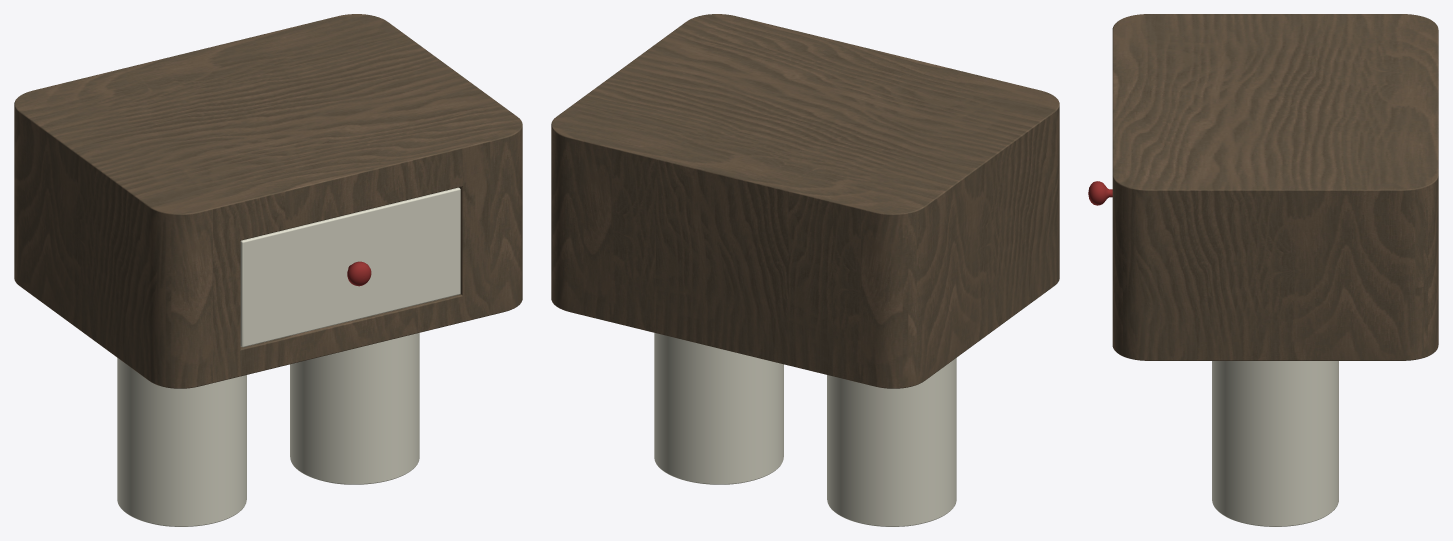
Rendered from walnut-nightstand.glb.
3 views of the same model, side by side, from view 1: azimuth 30°, elevation 25°; view 2: azimuth 150°, elevation 25°; view 3: azimuth 270°, elevation 25° (orthographic). The views are drawn at different scales.
Visible parts, largest first — view 1: 01 Carcass | rounded walnut, real drawer cavity.001, 04 Drawer front | ivory lacquer.001, 02 Left leg | ivory cylinder.001, 03 Right leg | ivory cylinder.001; view 2: 01 Carcass | rounded walnut, real drawer cavity.001, 02 Left leg | ivory cylinder.001, 03 Right leg | ivory cylinder.001; view 3: 01 Carcass | rounded walnut, real drawer cavity.001, 03 Right leg | ivory cylinder.001, 09 Red knob | lathed quad surface.001.
Boxes of the visible parts, x1,y1,x2,y2 form: 01 Carcass | rounded walnut, real drawer cavity.001: (14, 14, 522, 388); 04 Drawer front | ivory lacquer.001: (240, 187, 460, 347); 02 Left leg | ivory cylinder.001: (117, 358, 246, 526); 03 Right leg | ivory cylinder.001: (290, 333, 419, 484); 01 Carcass | rounded walnut, real drawer cavity.001: (551, 14, 1059, 388); 02 Left leg | ivory cylinder.001: (827, 358, 956, 526); 03 Right leg | ivory cylinder.001: (654, 333, 783, 484); 01 Carcass | rounded walnut, real drawer cavity.001: (1112, 14, 1438, 360); 03 Right leg | ivory cylinder.001: (1212, 361, 1338, 526); 09 Red knob | lathed quad surface.001: (1088, 181, 1112, 205).
Size of the model in its own units: 0.64 by 0.605 by 0.537.
3 materials, 1 textured.
